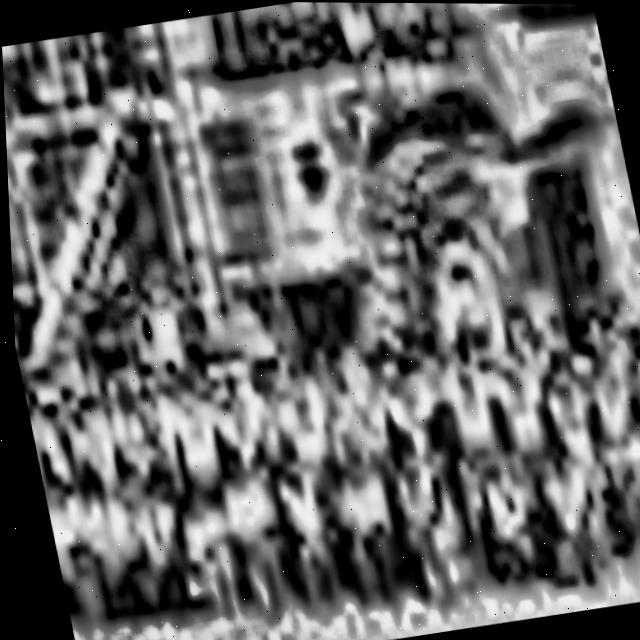dump_truck: (0, 0, 640, 417)
